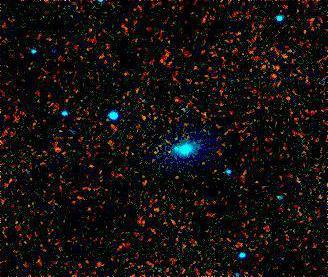star: (42, 134, 72, 164)
